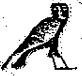Owl: (1, 2, 76, 73)
